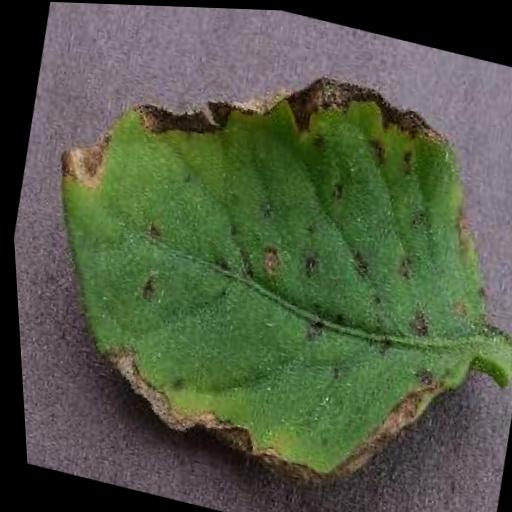Bacterial Spot: (0, 5, 512, 512)
